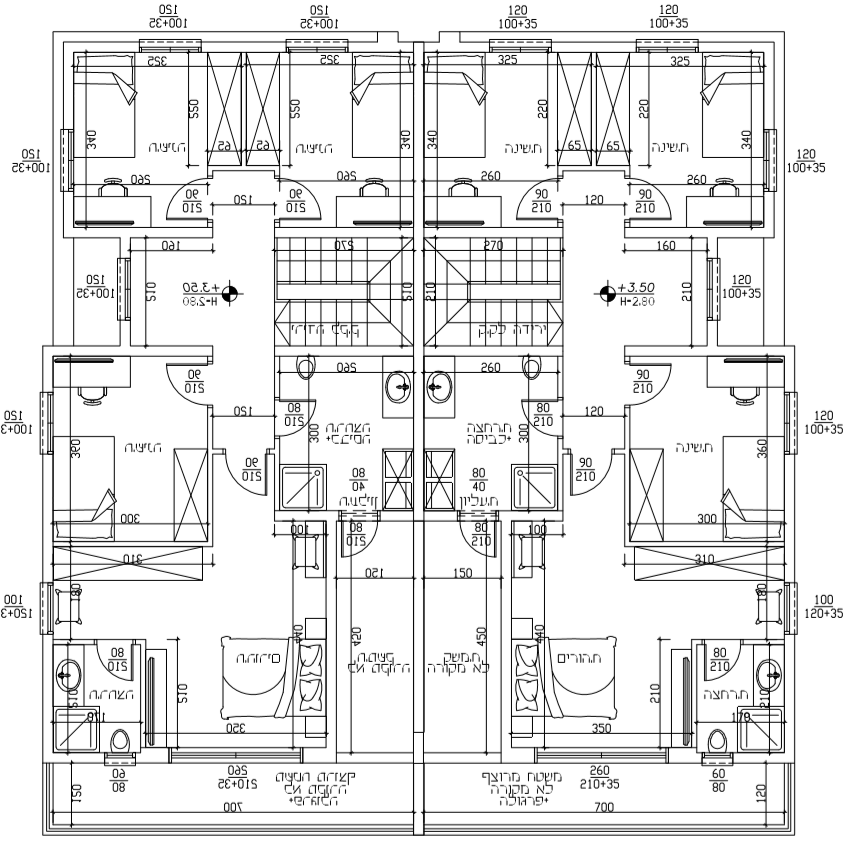door: (632, 358, 681, 410), (157, 361, 202, 413), (158, 175, 204, 221), (566, 458, 615, 501), (634, 175, 677, 221), (508, 181, 550, 225), (700, 645, 741, 687), (516, 392, 554, 437), (225, 461, 271, 497), (95, 646, 136, 681)
window: (533, 738, 672, 767), (164, 744, 307, 767), (282, 175, 327, 223), (700, 254, 726, 324), (779, 388, 804, 460), (758, 124, 782, 196), (37, 386, 61, 458), (485, 31, 555, 55), (633, 31, 699, 56), (282, 35, 352, 57), (32, 576, 57, 636), (112, 257, 133, 325), (57, 124, 77, 195), (134, 36, 207, 55), (779, 578, 802, 638)
